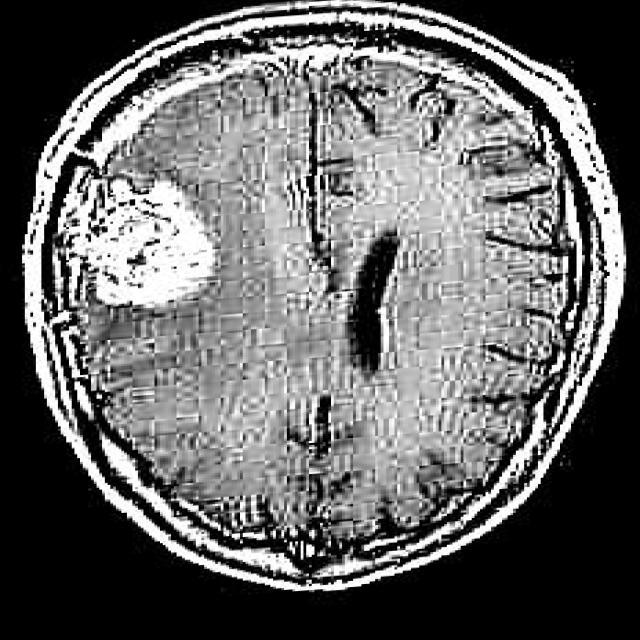Tumor: (52, 171, 215, 308)
